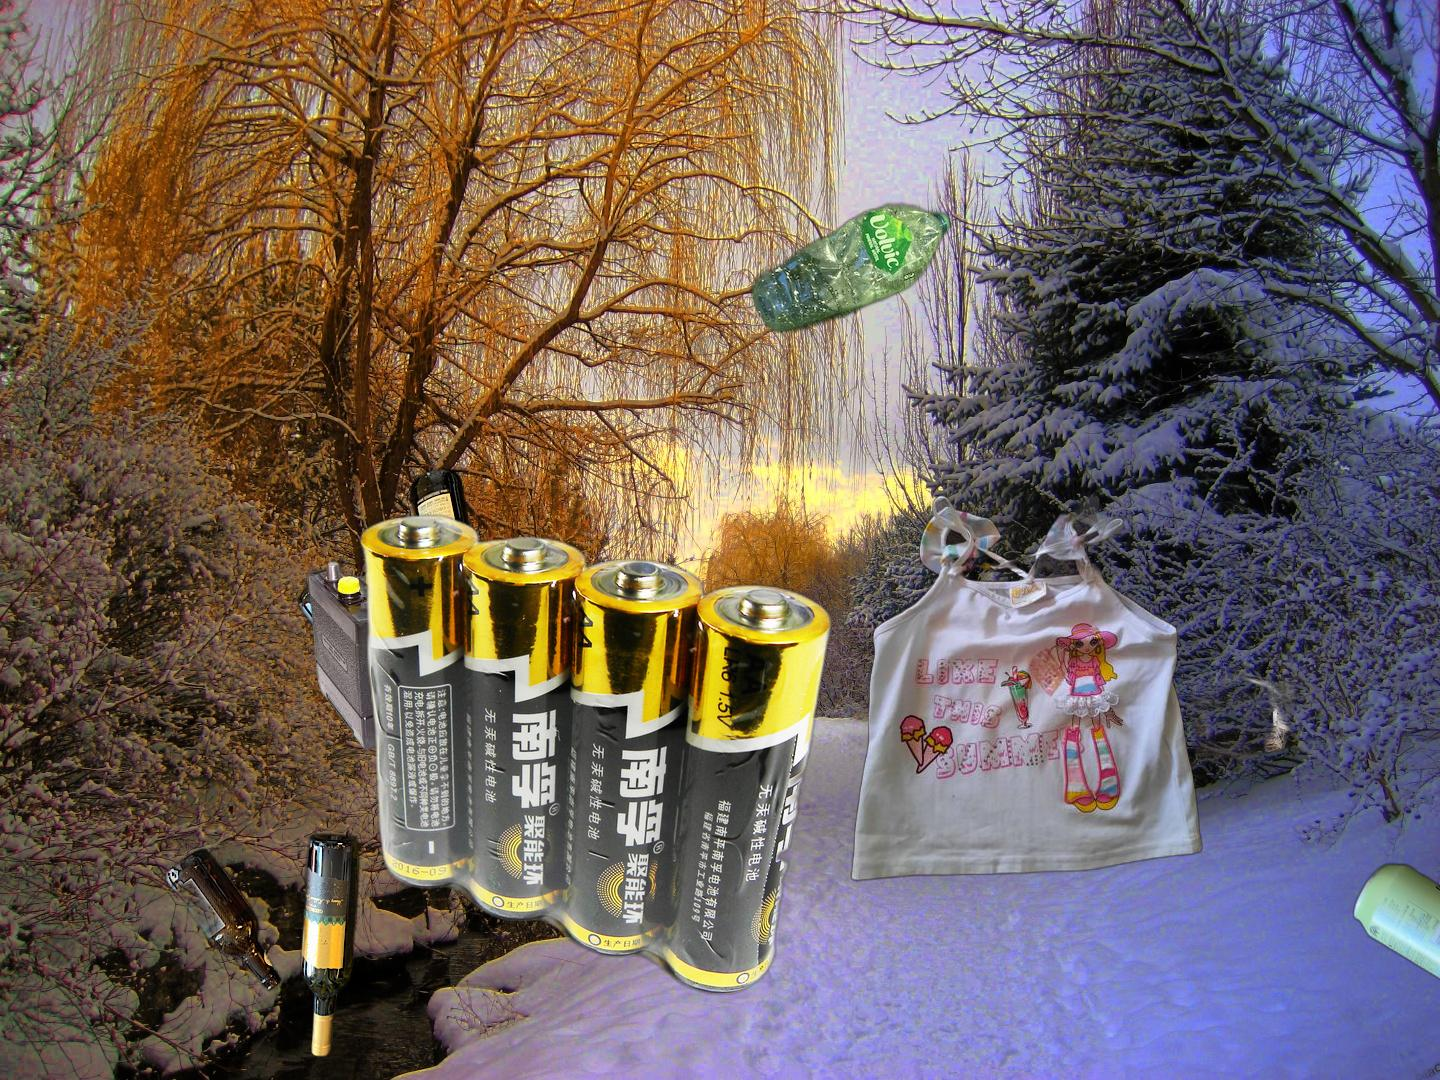battery: (356, 511, 836, 999), (304, 528, 528, 753)
clothes: (848, 489, 1206, 886)
glass: (161, 462, 482, 1063)
metal-cans: (1350, 857, 1440, 999)
paper: (1250, 847, 1440, 1080)
plastic-bottles: (746, 199, 956, 337)
trashbox-cardboard: (1109, 665, 1409, 866)
